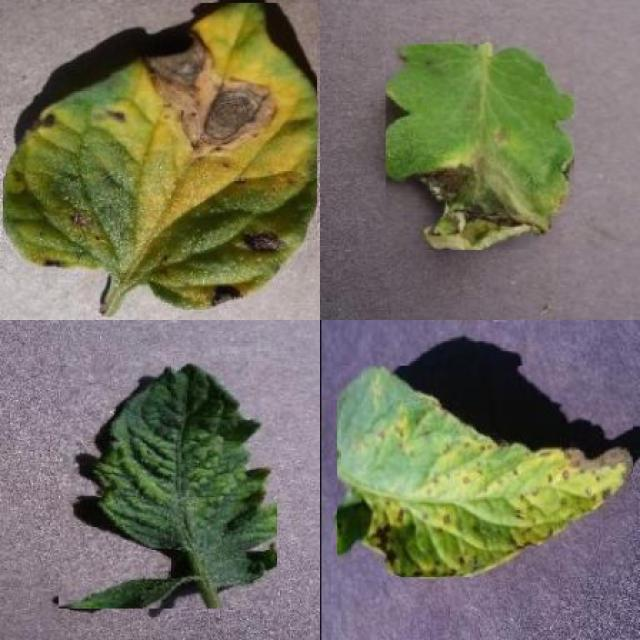Early Blight: (3, 3, 317, 310)
Late Blight: (386, 44, 574, 250)
Mosaic Virus: (59, 361, 277, 608)
Septoria: (337, 366, 633, 578)
